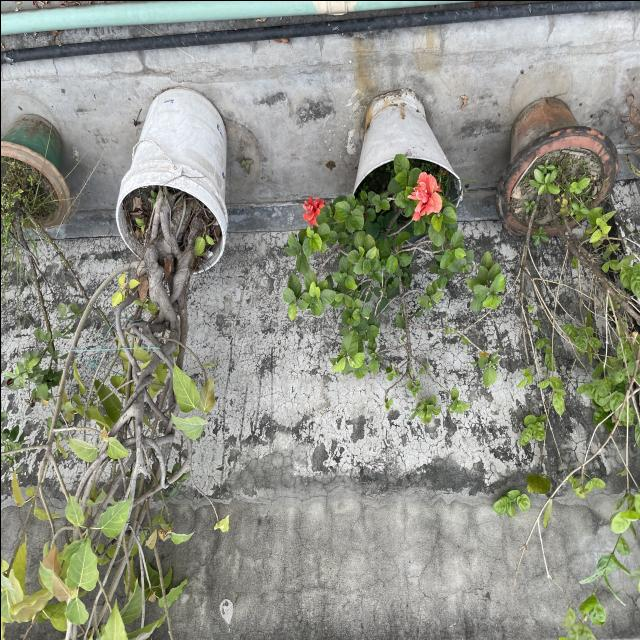Breeding Place: (490, 96, 614, 236), (132, 87, 226, 271), (344, 96, 454, 218), (0, 114, 70, 226)
